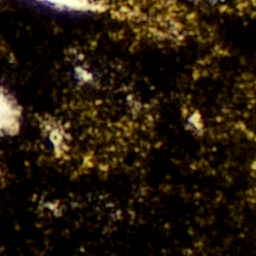cement_matrix: (0, 0, 255, 255), (48, 125, 65, 154), (116, 7, 135, 16), (78, 69, 90, 81), (190, 114, 200, 127)
gravel_crushed_stones: (38, 0, 106, 11), (0, 90, 18, 131), (49, 126, 64, 153), (117, 8, 134, 15), (79, 70, 89, 80), (191, 115, 199, 126)
